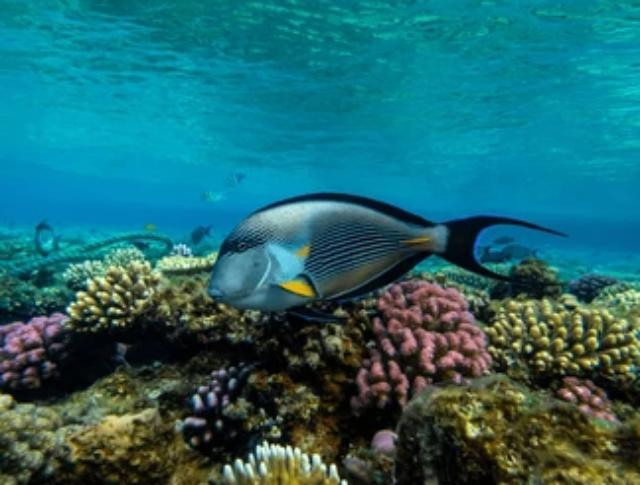Mulut: (194, 278, 243, 322)
Sirip Anal: (327, 245, 433, 309)
Sirip Dada: (262, 270, 324, 302)
Sirip Ekor: (438, 197, 580, 300)
Sirip Perut: (290, 293, 356, 337)
Sirip Punggung: (250, 186, 434, 232)
